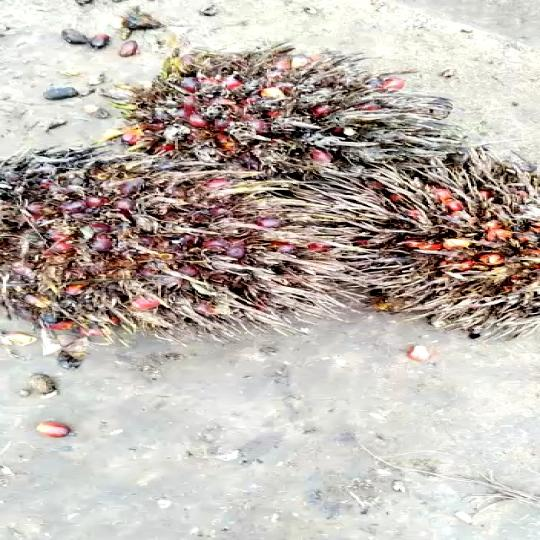terlalu masak: (113, 46, 437, 196), (0, 156, 272, 326)
